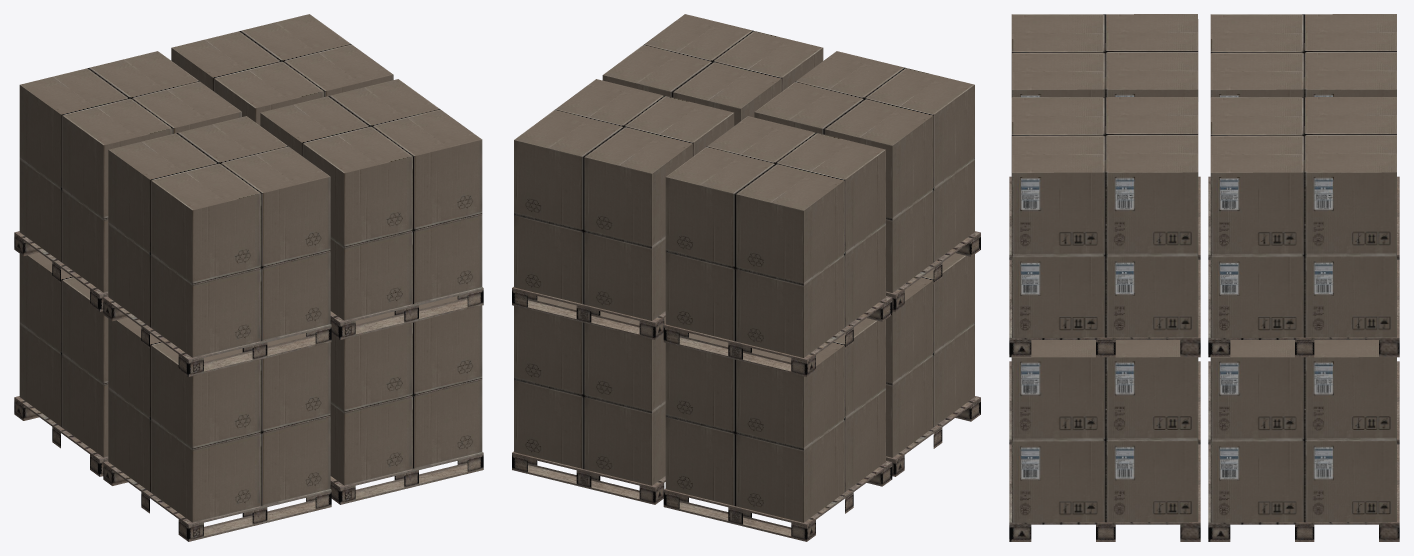
File: goods.glb
3 views of the same model, side by side, from view 1: azimuth 30°, elevation 25°; view 2: azimuth 150°, elevation 25°; view 3: azimuth 270°, elevation 25° (orthographic). The views are drawn at different scales.
Parts seen in each view (by area): view 1: 堆叠货物; view 2: 堆叠货物; view 3: 堆叠货物.
Part boxes in pixels (box(x1,y1,x2,y2)): 堆叠货物: box(14, 14, 483, 541); 堆叠货物: box(512, 14, 980, 541); 堆叠货物: box(1009, 14, 1399, 541).
Size of the model in its own units: 1.83 by 1.95 by 1.87.
Materials: 1 (1 with a texture image).
